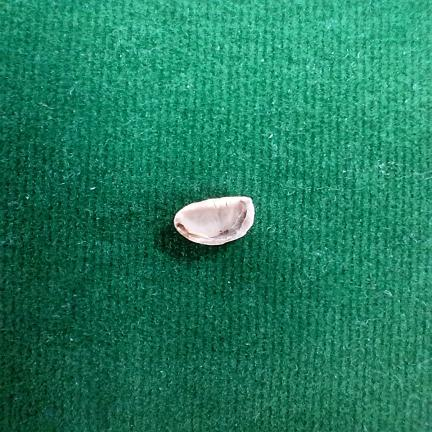shell: (174, 197, 255, 245)
